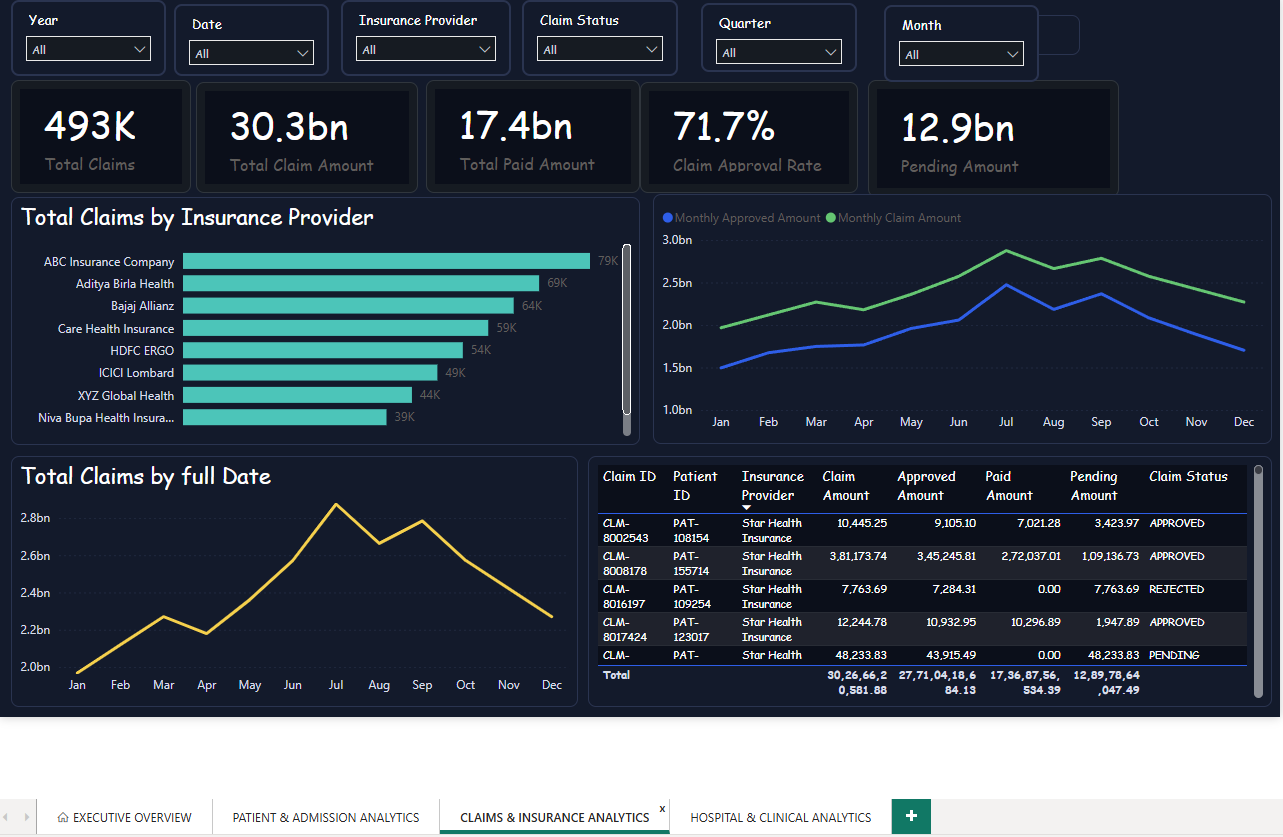

The page's visual inventory and layout, read from the dashboard file:
{"tool":"powerbi","page":{"name":"CLAIMS & INSURANCE ANALYTICS","canvas":[1280,720],"ordinal":2},"visuals":[{"type":"slicer","fields":{"Values":["dim_date.year"]},"box":[11,3,155,76],"z":0},{"type":"slicer","fields":{"Values":["dim_insurance.insurance_provider"]},"box":[341,3,170,76],"z":1000},{"type":"slicer","fields":{"Values":["fact_claims.Claim Status Grouped"]},"box":[522,3,156,76],"z":2000},{"type":"cardVisual","fields":{"Data":["_All Measures.Total Claims"]},"box":[11.2,82.5,180,113.8],"z":3000},{"type":"cardVisual","fields":{"Data":["_All Measures.Total Claim Amount"]},"box":[196.2,85,221.2,111.2],"z":4000},{"type":"cardVisual","fields":{"Data":["_All Measures.Total Paid Amount"]},"box":[426.2,82.5,213.8,113.8],"z":5000},{"type":"cardVisual","fields":{"Data":["Sum(fact_claims.pending_amount)"]},"box":[867.5,82.5,251.2,117.5],"z":6000},{"type":"cardVisual","fields":{"Data":["_All Measures.Claim Approval Rate"]},"box":[640,85,217.5,111.2],"z":7000},{"type":"lineChart","title":"Total Claims by full Date","fields":{"Category":["Fake Months.Month"],"Y":["_All Measures.Fake Monthly Claim Amount"]},"box":[11,459,567,251],"z":8000},{"type":"lineChart","fields":{"Category":["Fake Months.Month"],"Y":["_All Measures.Fake Monthly Approved Amount2","_All Measures.Fake Monthly Claim Amount"]},"box":[653,197,619,250],"z":9000},{"type":"tableEx","fields":{"Values":["fact_claims.claim_id","dim_patient.patient_id","dim_insurance.insurance_provider","Sum(fact_claims.claim_amount)","Sum(fact_claims.approved_amount)","_All Measures.Total Paid Amount","Sum(fact_claims.pending_amount)","fact_claims.Claim Status Grouped"]},"box":[588,459,684,251],"z":10000},{"type":"actionButton","box":[978.8,17.5,101.2,40],"z":11000},{"type":"barChart","title":"Total Claims by Insurance Provider","fields":{"Category":["Insurance Companies.Company"],"Y":["fact_claims.Fake Claims by Company"]},"box":[10.8,200.3,629.2,247.4],"z":12000},{"type":"slicer","fields":{"Values":["dim_date.Dday"]},"box":[174,7,155,72],"z":13000},{"type":"slicer","fields":{"Values":["dim_date.quarter"]},"box":[701.3,6.3,155.7,69.2],"z":13001},{"type":"slicer","fields":{"Values":["dim_date.full_date.Variation.Date Hierarchy.Month"]},"box":[883.7,7.9,155.7,77.1],"z":13002}]}

Visuals, with their boxes on the page's 1280x720 design canvas (x1, y1, x2, y2). These are canvas units, not pixel positions in the 1283x837 screenshot, which may show the page scaled, cropped or inside an application window:
slicer - dim_date.year: bbox=(11, 3, 166, 79)
slicer - dim_insurance.insurance_provider: bbox=(341, 3, 511, 79)
slicer - fact_claims.Claim Status Grouped: bbox=(522, 3, 678, 79)
cardVisual - _All Measures.Total Claims: bbox=(11, 82, 191, 196)
cardVisual - _All Measures.Total Claim Amount: bbox=(196, 85, 417, 196)
cardVisual - _All Measures.Total Paid Amount: bbox=(426, 82, 640, 196)
cardVisual - Sum(fact_claims.pending_amount): bbox=(868, 82, 1119, 200)
cardVisual - _All Measures.Claim Approval Rate: bbox=(640, 85, 858, 196)
"Total Claims by full Date" lineChart: bbox=(11, 459, 578, 710)
lineChart - Fake Months.Month x _All Measures.Fake Monthly Approved Amount2: bbox=(653, 197, 1272, 447)
tableEx - fact_claims.claim_id x dim_patient.patient_id: bbox=(588, 459, 1272, 710)
actionButton: bbox=(979, 18, 1080, 58)
"Total Claims by Insurance Provider" barChart: bbox=(11, 200, 640, 448)
slicer - dim_date.Dday: bbox=(174, 7, 329, 79)
slicer - dim_date.quarter: bbox=(701, 6, 857, 76)
slicer - dim_date.full_date.Variation.Date Hierarchy.Month: bbox=(884, 8, 1039, 85)
